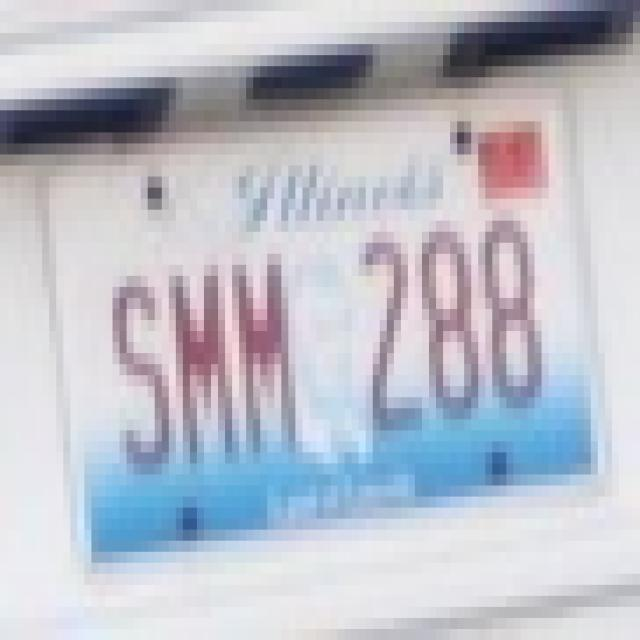LicensePlate: (23, 71, 611, 572)
